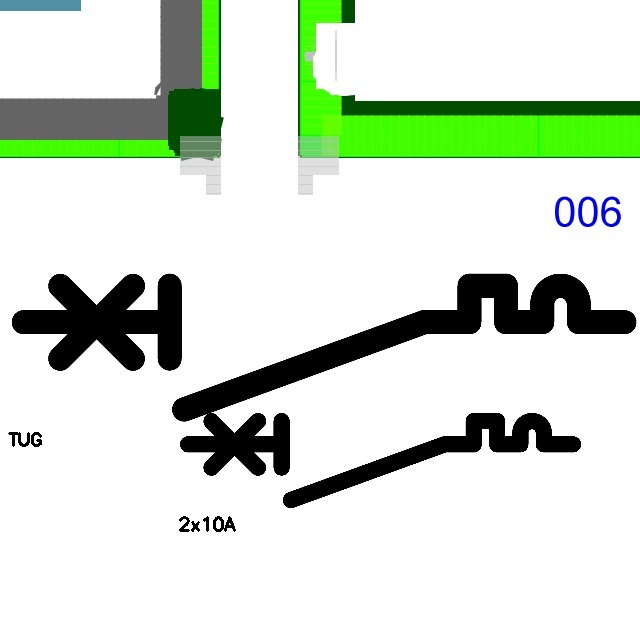interruptor_termomagnetico: (8, 270, 640, 425), (178, 411, 583, 510)
